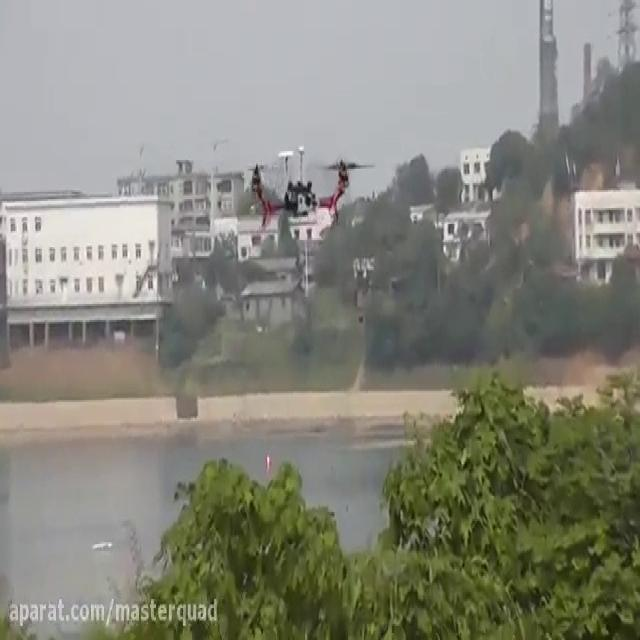drone: (238, 146, 375, 233)
